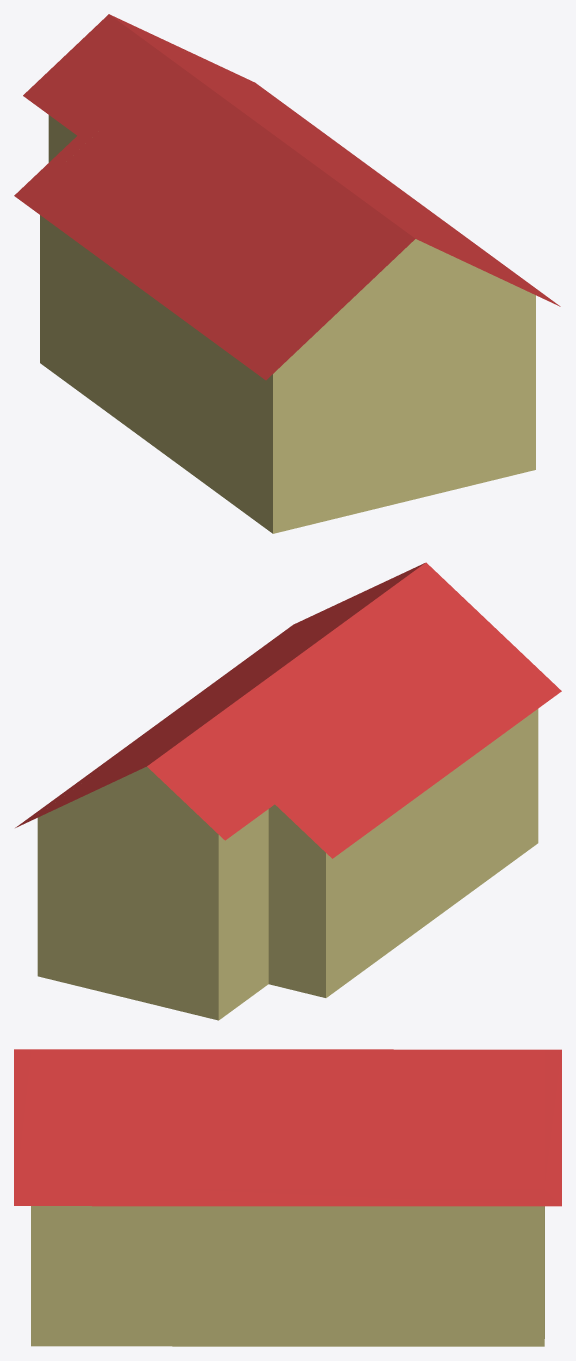
3 renders of one model, top to bottom at view 1: azimuth 30°, elevation 25°; view 2: azimuth 150°, elevation 25°; view 3: azimuth 270°, elevation 25°, orthographic. The views are drawn at different scales.
Size of the model in its own units: 17.91 by 32.17 by 15.58.
